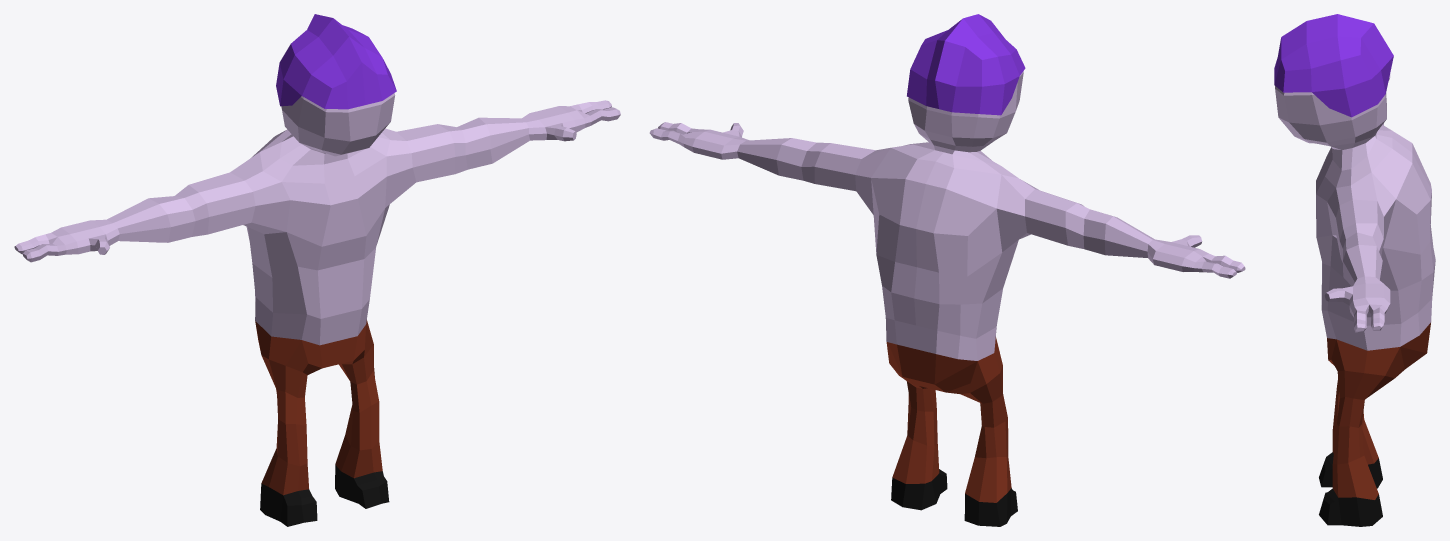
Rendered from minimonster_colored.fbx.
3 renders of one model, left to right at view 1: azimuth 30°, elevation 25°; view 2: azimuth 150°, elevation 25°; view 3: azimuth 270°, elevation 25°, orthographic.
Visible parts, largest first — view 1: Cube.001; view 2: Cube.001; view 3: Cube.001.
Boxes of the visible parts, x1=… form: Cube.001: x1=14, y1=14, x2=620, y2=526; Cube.001: x1=649, y1=14, x2=1245, y2=526; Cube.001: x1=1274, y1=14, x2=1435, y2=526.
Bounding box in the file's own units: 407 × 323 × 97.17.
